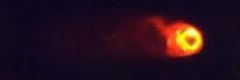keyhole: (182, 34, 199, 48)
